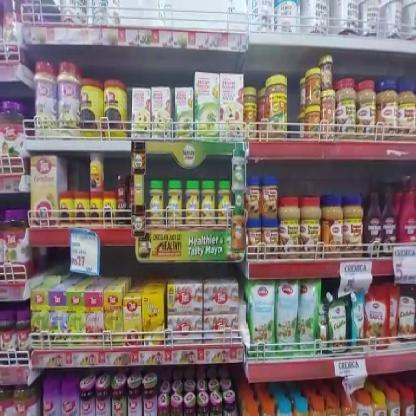Nutralite ACHARI MAYO 300g-275g-25g-: (200, 178, 216, 224), (216, 178, 231, 224)
Nutralite CHEESY GARLIC MAYO 300g-275g-25g-: (167, 176, 183, 231), (148, 177, 164, 228), (184, 178, 199, 228)
